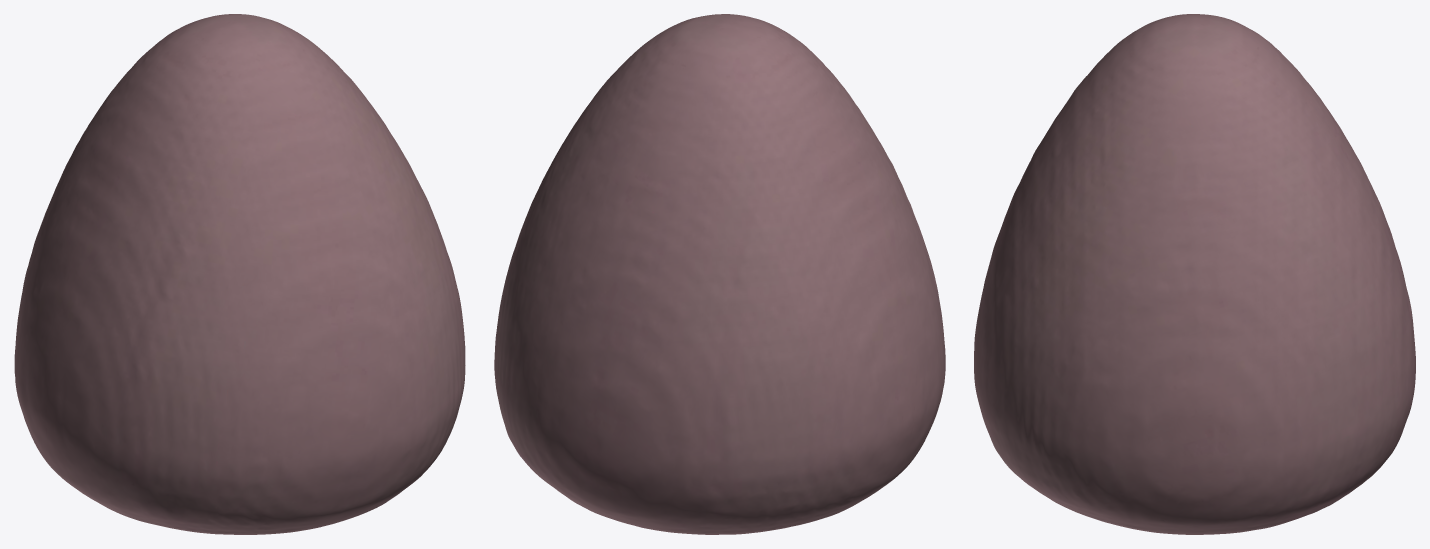
The model's file is Invisible.fbx.
The picture shows the model from 3 angles, left to right: view 1: azimuth 30°, elevation 25°; view 2: azimuth 150°, elevation 25°; view 3: azimuth 270°, elevation 25°; orthographic projection.
Parts seen in each view (by area): view 1: high_poly; view 2: high_poly; view 3: high_poly.
Part boxes in pixels (<box>): high_poly: <box>14,14,465,534</box>; high_poly: <box>494,14,945,534</box>; high_poly: <box>974,14,1415,534</box>.
Bounding box in the file's own units: 89.29 × 100 × 89.18.
